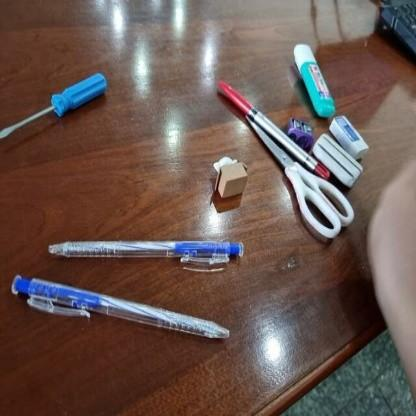not trash: (10, 276, 231, 344), (242, 115, 354, 238), (217, 78, 332, 183), (0, 65, 107, 153), (48, 233, 246, 274), (286, 40, 338, 117), (310, 132, 366, 186), (207, 154, 252, 204), (331, 112, 372, 158), (282, 113, 316, 151)
